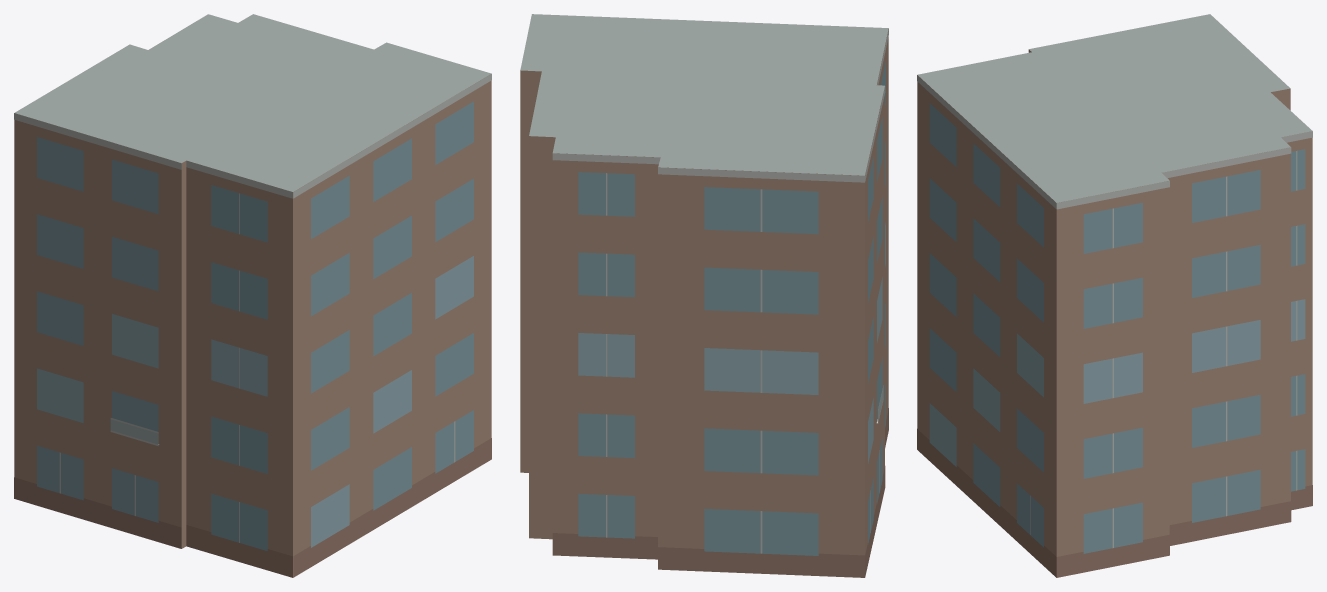
Rendered from survey-upis-33013158.glb.
3 views of the same model, side by side, from view 1: azimuth 30°, elevation 25°; view 2: azimuth 150°, elevation 25°; view 3: azimuth 270°, elevation 25° (orthographic). The views are drawn at different scales.
Parts seen in each view (by area): view 1: survey-upis-33013158.tmp; view 2: survey-upis-33013158.tmp; view 3: survey-upis-33013158.tmp.
Part boxes in pixels (<box>): survey-upis-33013158.tmp: <box>14,14,491,577</box>; survey-upis-33013158.tmp: <box>520,14,888,577</box>; survey-upis-33013158.tmp: <box>917,14,1312,577</box>.
Bounding box in the file's own units: 15.2 × 14.05 × 13.45.
